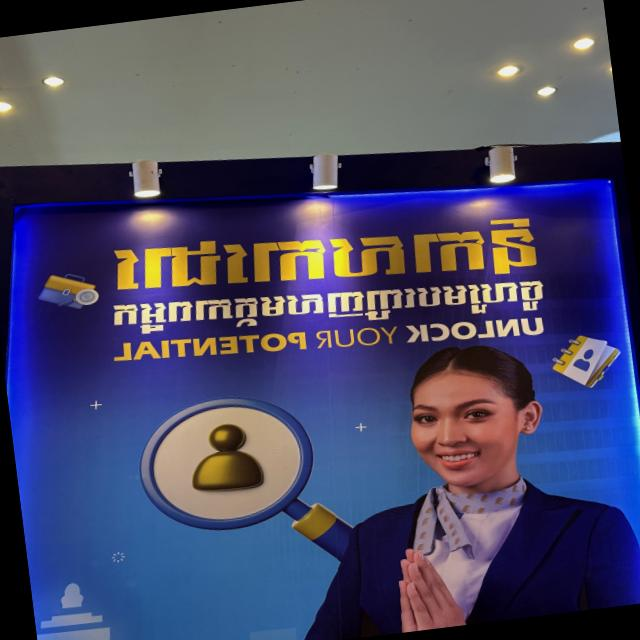Yolov11kh: (107, 206, 544, 300), (110, 277, 555, 335)
